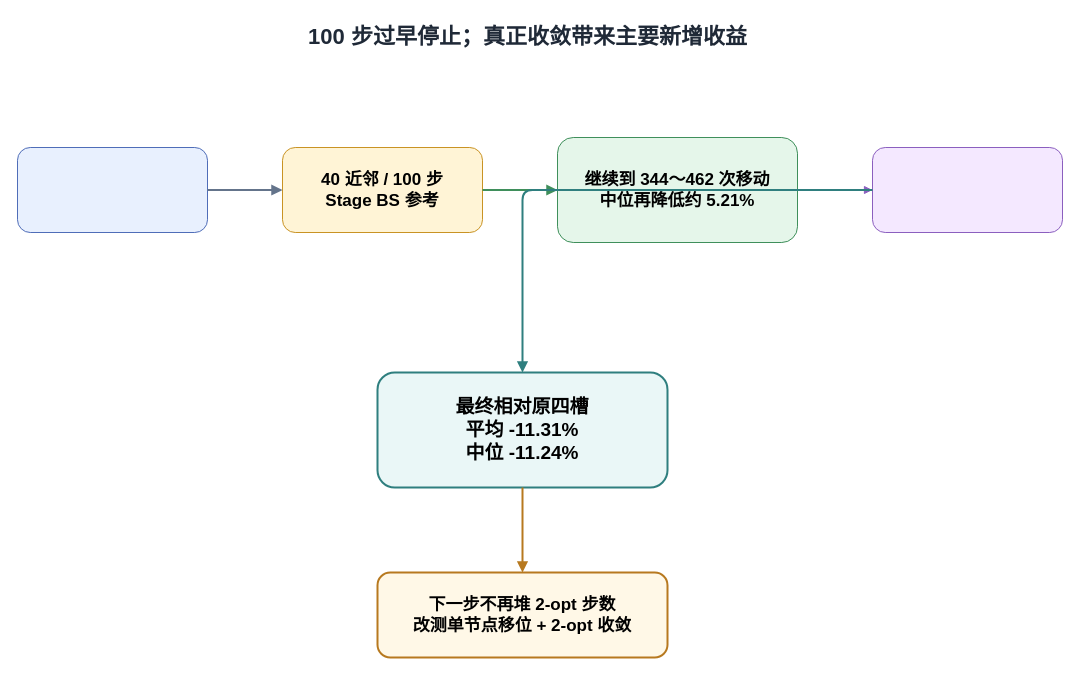
This 1080x675 diagram has some shape labels left out. The centre of each missing label's shape, as x and y in pixels:
"8 次双桥扰动 额外 0～0.15%" belongs at pixel 967 189.
"高规模 12 槽路线 3 个实例" belongs at pixel 112 189.
